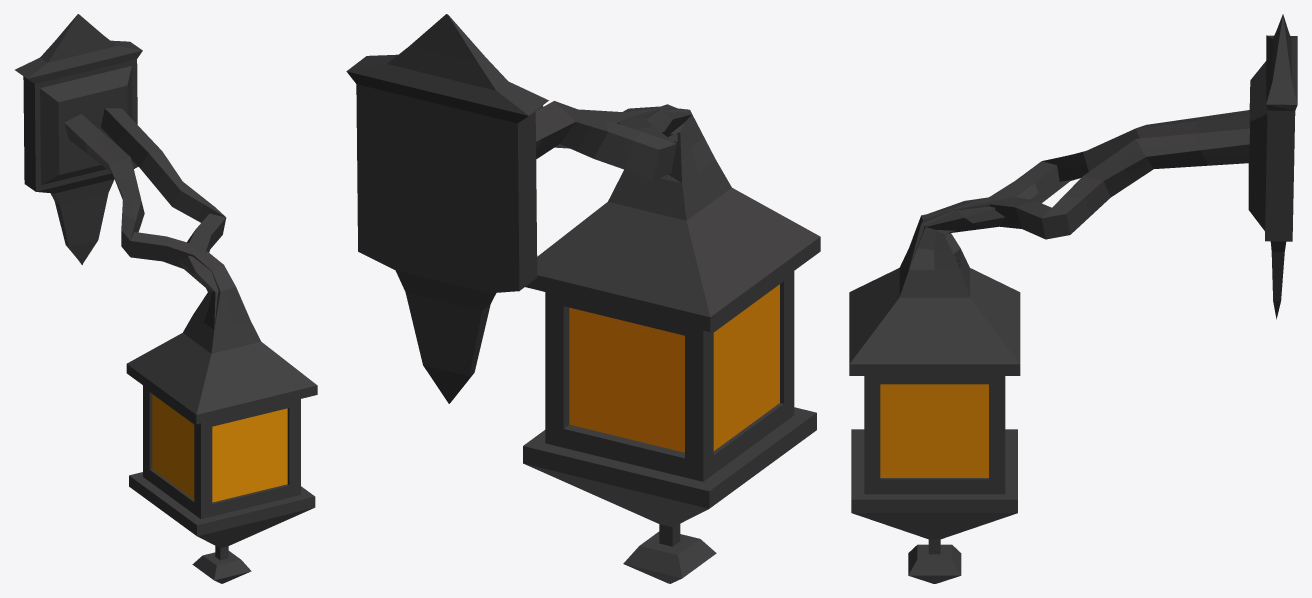
The model's file is Lantern.fbx.
3 views of the same model, side by side, from view 1: azimuth 30°, elevation 25°; view 2: azimuth 150°, elevation 25°; view 3: azimuth 270°, elevation 25° (orthographic). The views are drawn at different scales.
Visible parts, largest first — view 1: Lantern top, Plane, Cube, Window 2, Lantern bottom, Window 3x2; view 2: Plane, Lantern top, Cube, Lantern bottom, Window 1, Window 3x2; view 3: Lantern top, Window 3x2, Plane, Lantern bottom, Cube.
Part boxes in pixels (x1,y1,x2,y2): Lantern top: [64, 108, 317, 424]; Plane: [15, 14, 142, 264]; Cube: [143, 291, 300, 559]; Window 2: [212, 408, 287, 502]; Lantern bottom: [129, 472, 315, 583]; Window 3x2: [152, 394, 194, 499]; Plane: [346, 14, 548, 403]; Lantern top: [525, 101, 820, 331]; Cube: [545, 110, 794, 546]; Lantern bottom: [523, 407, 816, 583]; Window 1: [569, 307, 684, 452]; Window 3x2: [713, 284, 779, 450]; Lantern top: [849, 110, 1249, 375]; Window 3x2: [880, 384, 988, 477]; Plane: [1248, 14, 1297, 319]; Lantern bottom: [851, 429, 1017, 583]; Cube: [864, 178, 1080, 554].
Size of the model in its own units: 278 by 1020 by 729.
